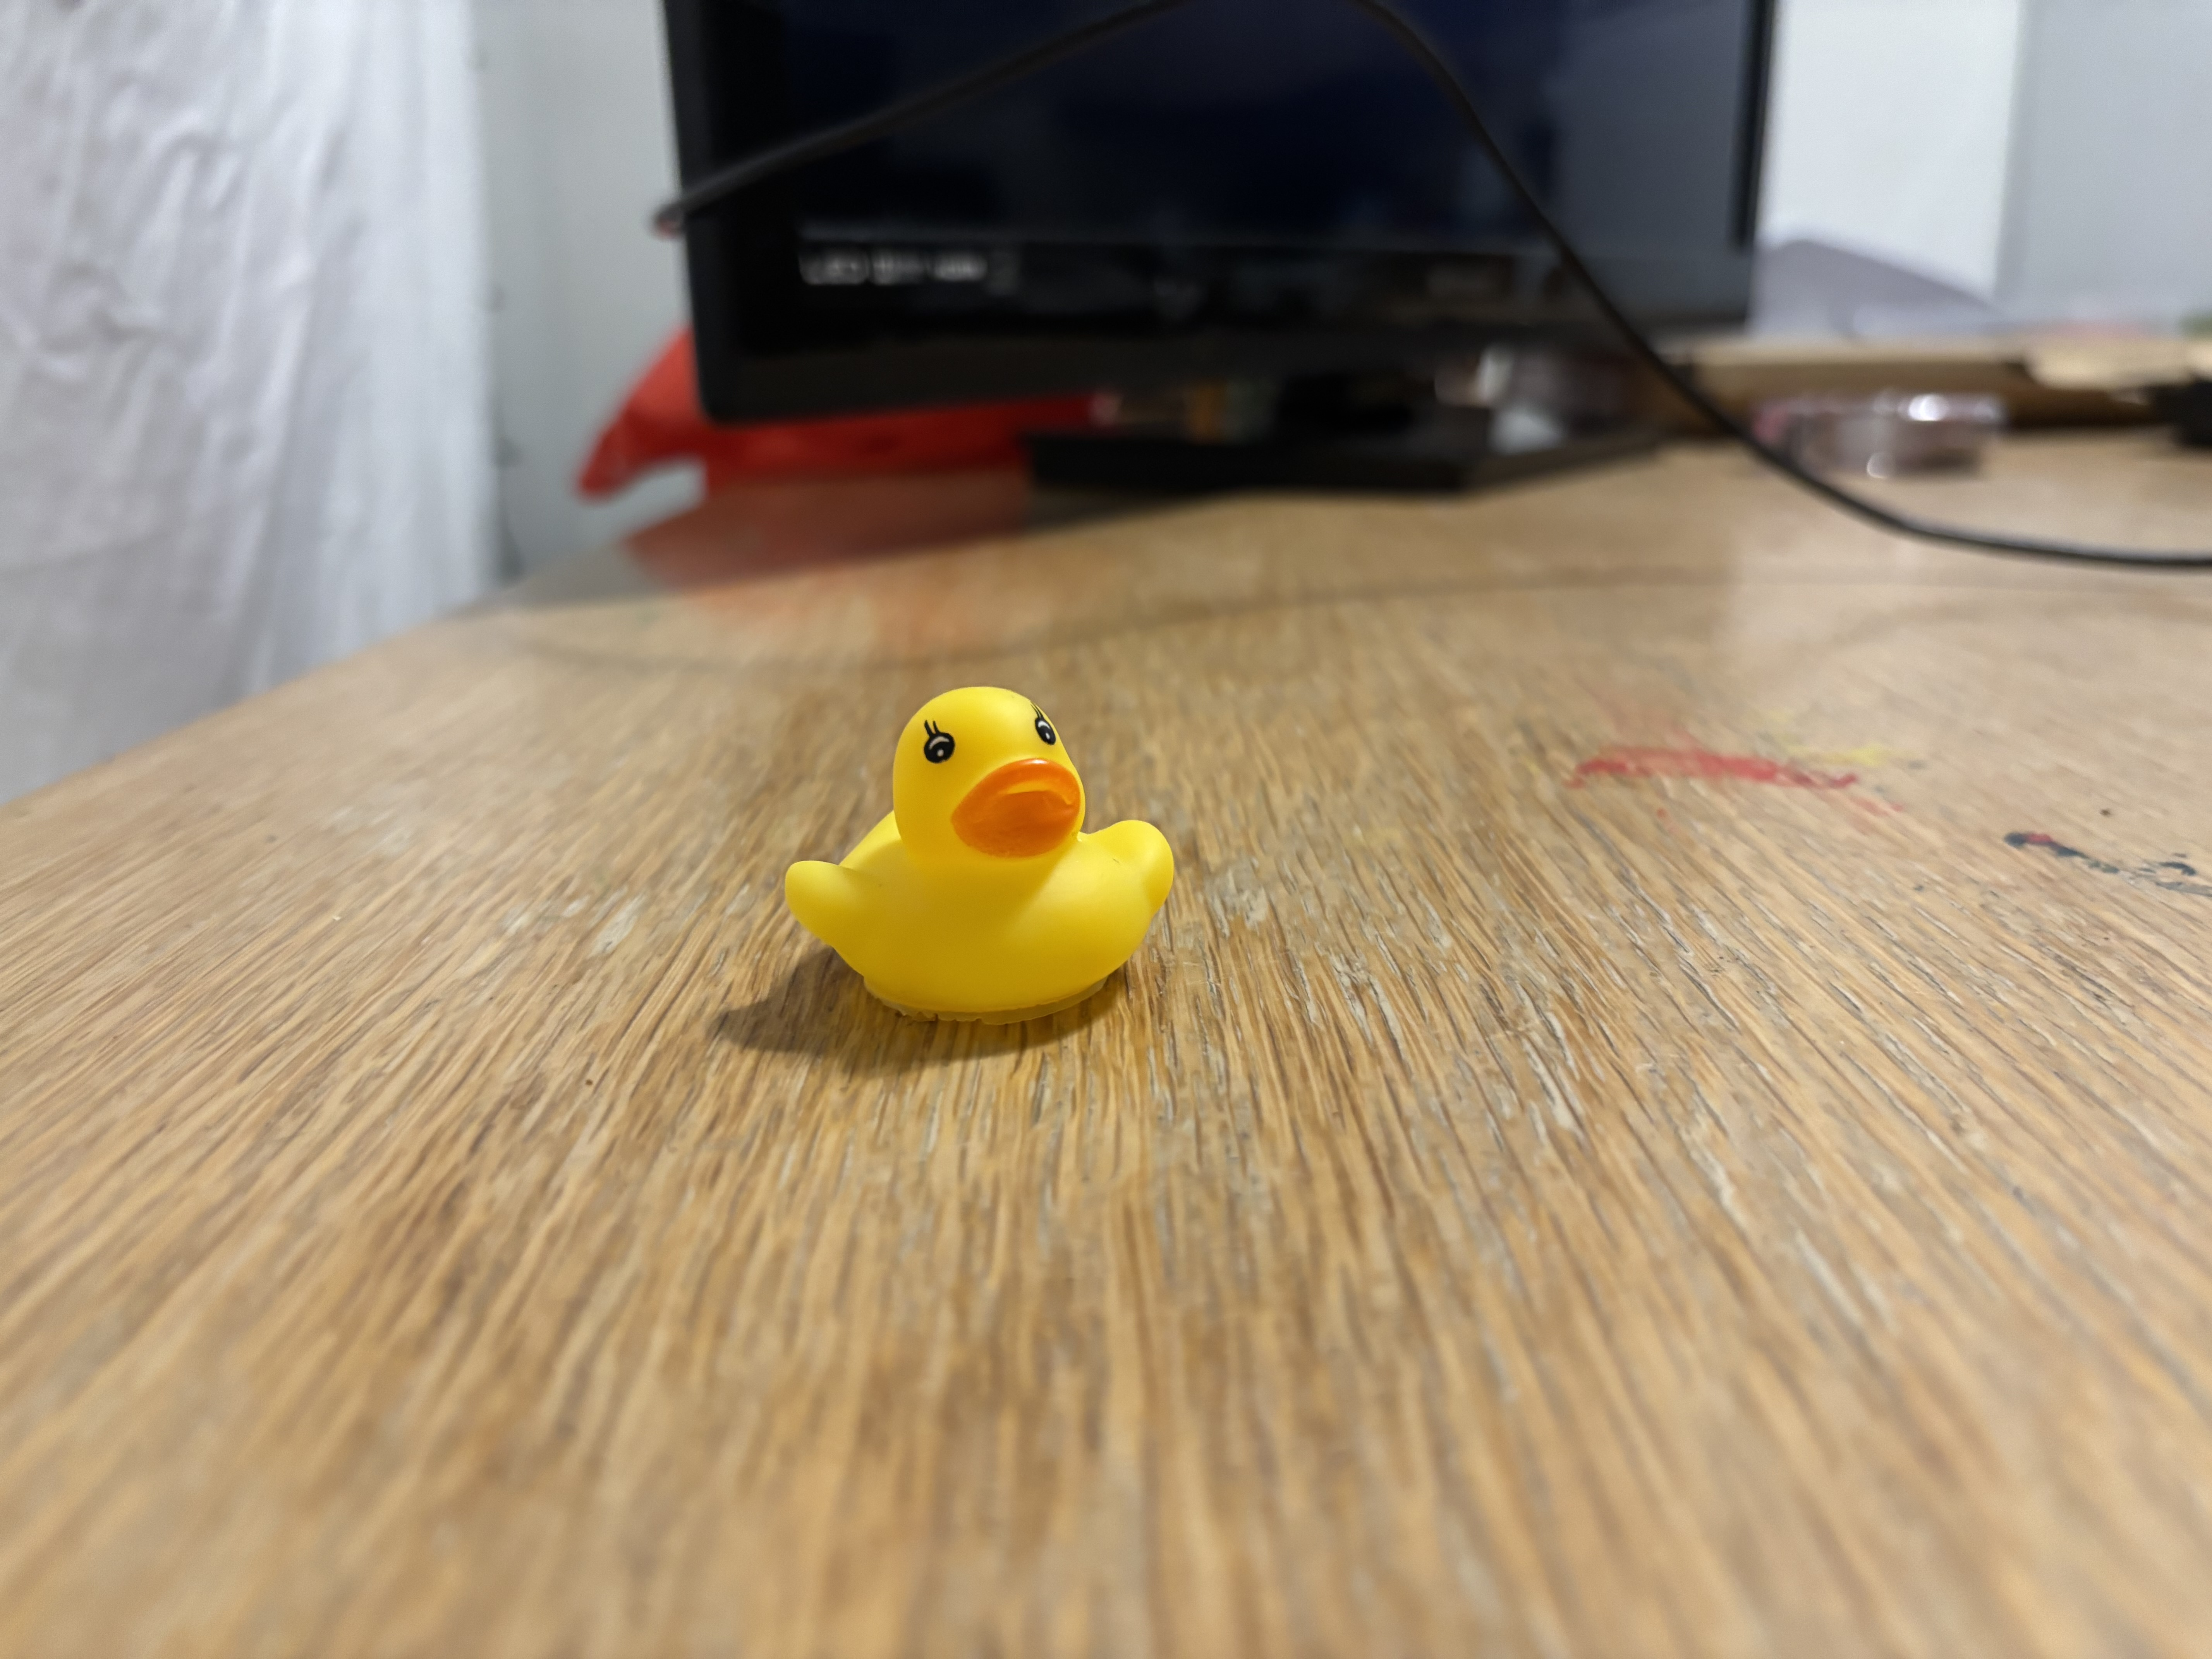duck_regular: (786, 687, 1179, 1012)
